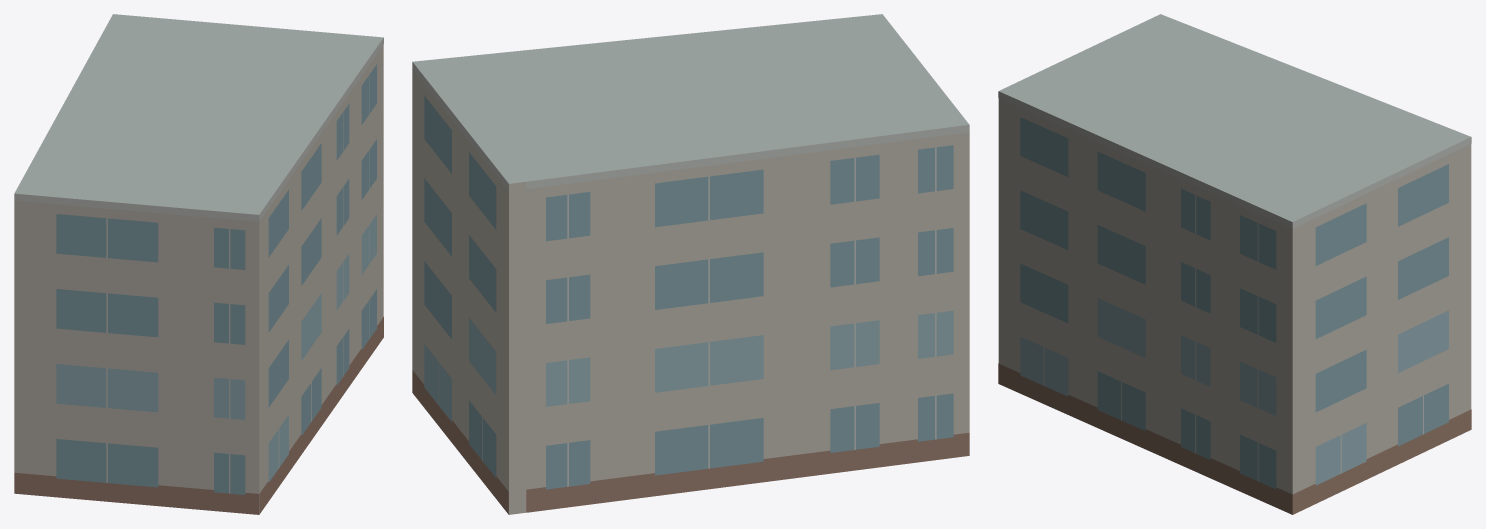
File: survey-upis-32751770.glb
3 views of the same model, side by side, from view 1: azimuth 30°, elevation 25°; view 2: azimuth 150°, elevation 25°; view 3: azimuth 270°, elevation 25° (orthographic). The views are drawn at different scales.
Parts seen in each view (by area): view 1: survey-upis-32751770.tmp; view 2: survey-upis-32751770.tmp; view 3: survey-upis-32751770.tmp.
Part boxes in pixels (x1=…): survey-upis-32751770.tmp: x1=14, y1=14, x2=383, y2=514; survey-upis-32751770.tmp: x1=412, y1=14, x2=969, y2=514; survey-upis-32751770.tmp: x1=998, y1=14, x2=1471, y2=514.
Bounding box in the file's own units: 16.17 × 10.6 × 15.53.
